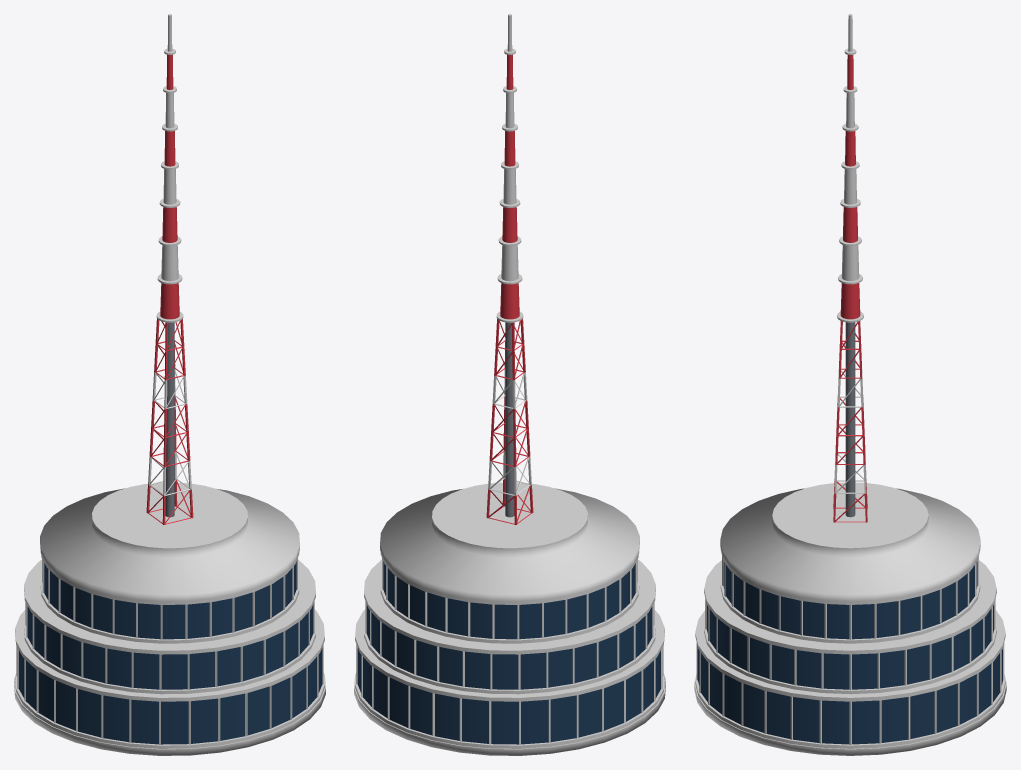
The model's file is top-prebuilt.fbx.
3 renders of one model, left to right at view 1: azimuth 30°, elevation 25°; view 2: azimuth 150°, elevation 25°; view 3: azimuth 270°, elevation 25°, orthographic.
Visible parts, largest first — view 1: landmark-great_tower/0/top-prebuilt; view 2: landmark-great_tower/0/top-prebuilt; view 3: landmark-great_tower/0/top-prebuilt.
Boxes of the visible parts, x1,y1,x2,y2 form: landmark-great_tower/0/top-prebuilt: [14, 14, 325, 755]; landmark-great_tower/0/top-prebuilt: [354, 14, 665, 755]; landmark-great_tower/0/top-prebuilt: [694, 14, 1006, 755].
Bounding box in the file's own units: 30 × 75 × 30.
